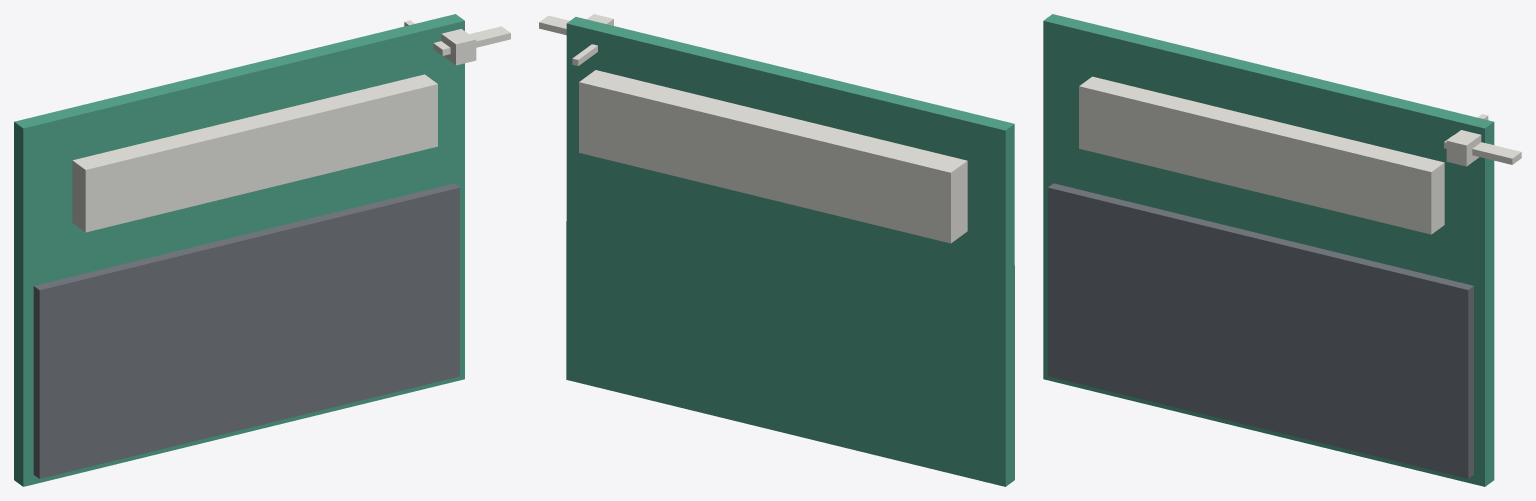
File: ASIC_PCB5_0p8mm.glb
3 views of the same model, side by side, from view 1: azimuth 30°, elevation 25°; view 2: azimuth 150°, elevation 25°; view 3: azimuth 330°, elevation 25° (orthographic).
Parts seen in each view (by area): view 1: ic, board, conn; view 2: board, conn; view 3: ic, board, conn.
Part boxes in pixels (bbox=[...]): ic: bbox=[33, 183, 459, 478]; board: bbox=[14, 14, 464, 486]; conn: bbox=[72, 20, 510, 232]; board: bbox=[566, 17, 1014, 486]; conn: bbox=[539, 14, 967, 243]; ic: bbox=[1048, 183, 1473, 478]; board: bbox=[1043, 14, 1494, 486]; conn: bbox=[1079, 76, 1521, 234].
Size of the model in its own units: 23.79 by 17.03 by 3.77.
